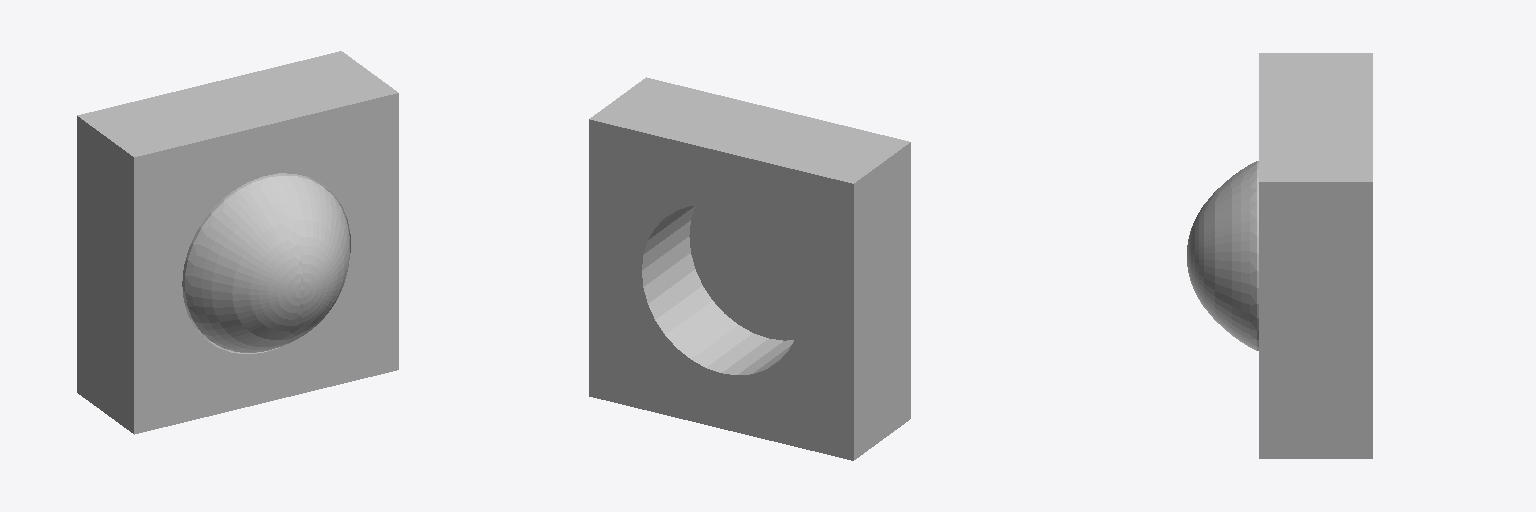
The model's file is Experimental XY stage with hole ACL2520U-0DG6-A-Step v11.obj.
3 views of the same model, side by side, from view 1: azimuth 30°, elevation 25°; view 2: azimuth 150°, elevation 25°; view 3: azimuth 270°, elevation 25° (orthographic).
Parts seen in each view (by area): view 1: Body2, Body1; view 2: Body2, Body1; view 3: Body2, Body1.
Boxes of the visible parts, <box> form: Body2: <box>77,51,398,434</box>; Body1: <box>182,173,349,352</box>; Body2: <box>589,77,910,460</box>; Body1: <box>689,205,800,340</box>; Body2: <box>1259,53,1372,458</box>; Body1: <box>1187,161,1258,350</box>.
Bounding box in the file's own units: 4 × 4 × 2.44.